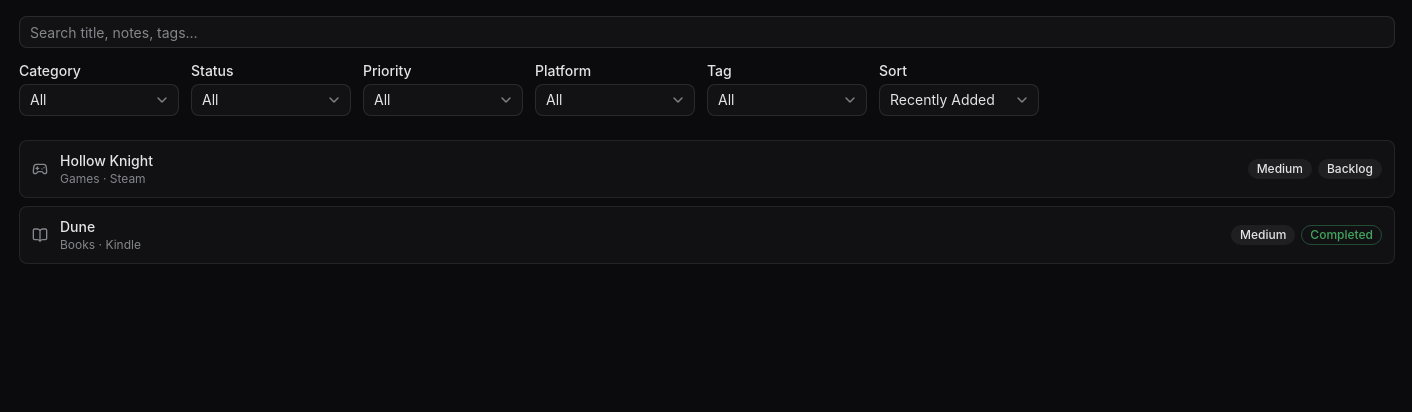
Test: DiscoveryPage › filters by category
This screenshot has width=1412, height=412.
expect the text "Hollow Knight" is shown: met, box x1=60 y1=152 x2=153 y2=169
Step 1. Click the dropdown named "Category" → (99, 100), box x1=19 y1=84 x2=179 y2=116
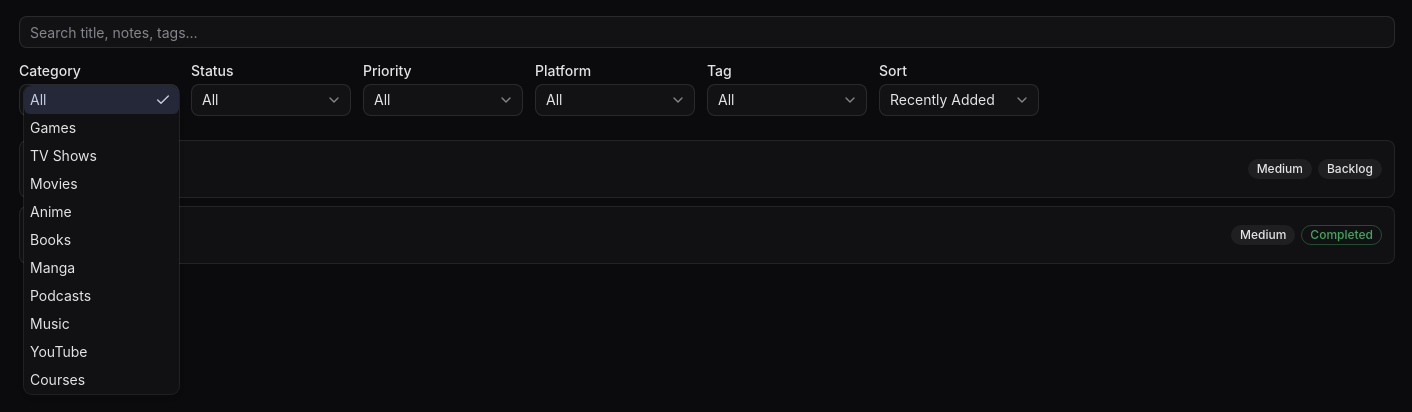
Step 2. Click the option "Books" → (50, 240), box x1=30 y1=231 x2=71 y2=248
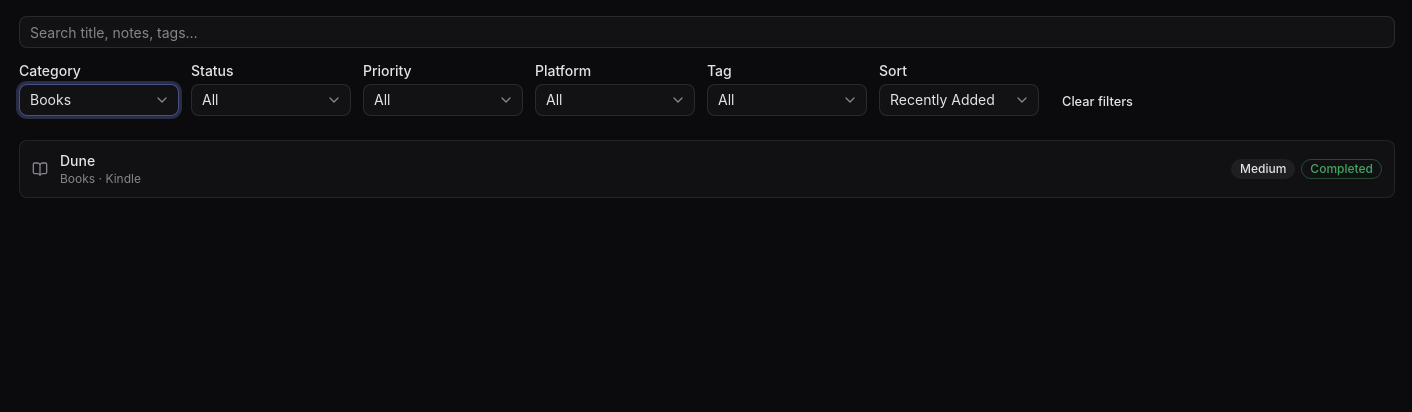
expect the text "Dune" is shown: met, box x1=60 y1=152 x2=95 y2=169
expect the button "Hollow Knight" is gone: met
